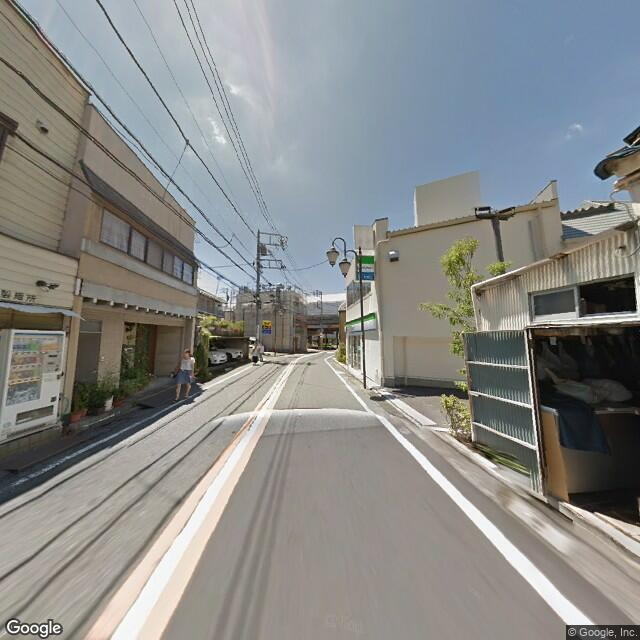family_mart: (354, 251, 378, 286), (342, 312, 376, 336)
